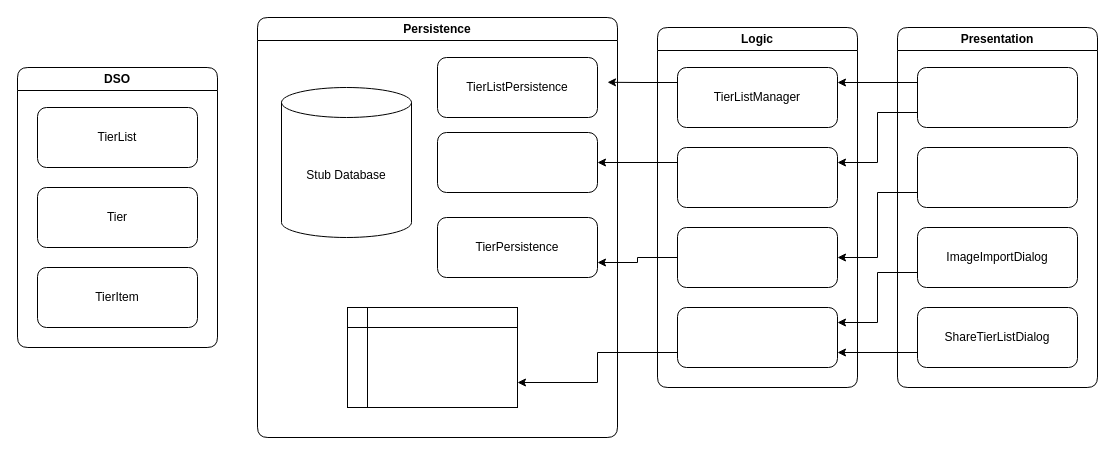
Image size: 1115x455. Some labels were removed from this diagram. The shapes that lost their labels are listed below. From the top down, each one's centre as x and y in pixels, then its label:
At (997,97): "TierListView".
At (517,162): "TierItemPersistence".
At (757,177): "ItemPlacementManager".
At (997,177): "TierEditorDialog".
At (757,257): "TierManager".
At (432,357): "FileStorage".
At (757,337): "ImageIOManager".
